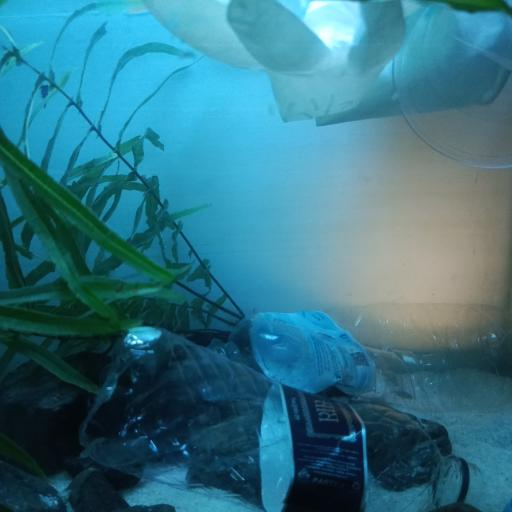glove: (137, 0, 512, 126)
plastic_bottle: (75, 321, 483, 512), (212, 309, 511, 401)
plastic_cup: (390, 0, 512, 169)
